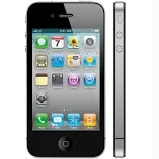iphone: (23, 1, 105, 159)
iphone4: (25, 1, 107, 159)
